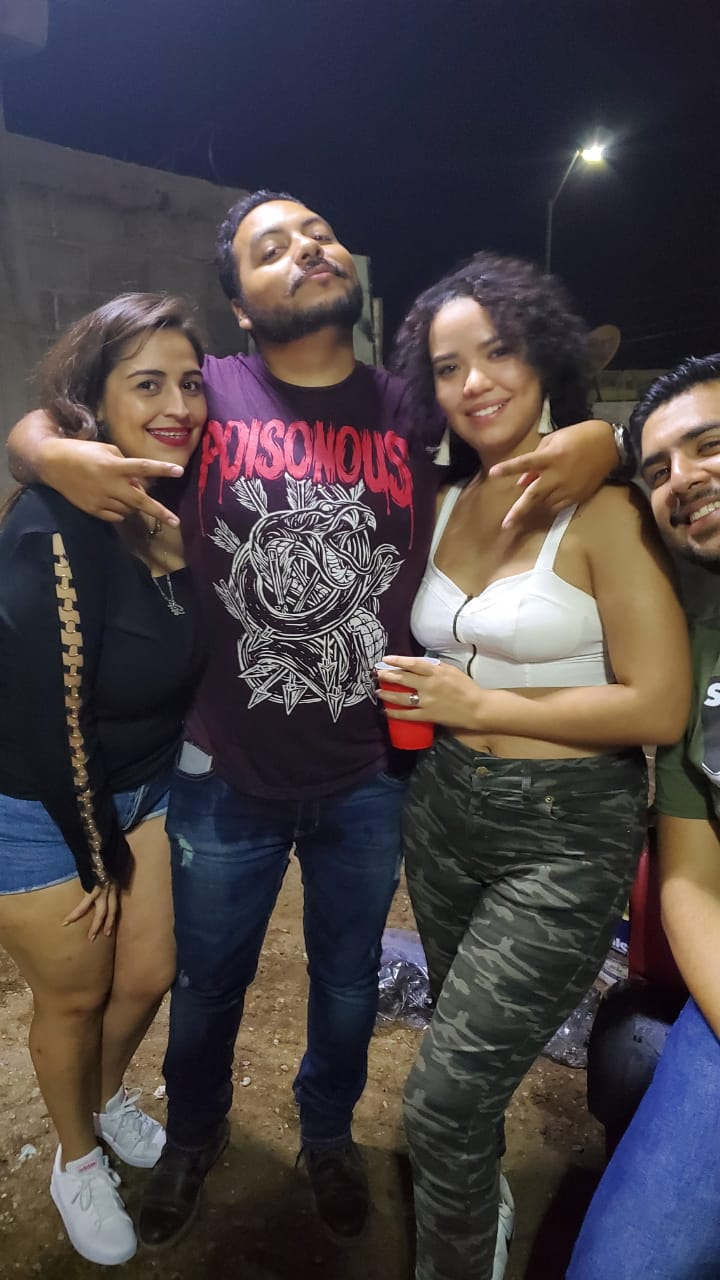Yoshi: (174, 144, 417, 495)
